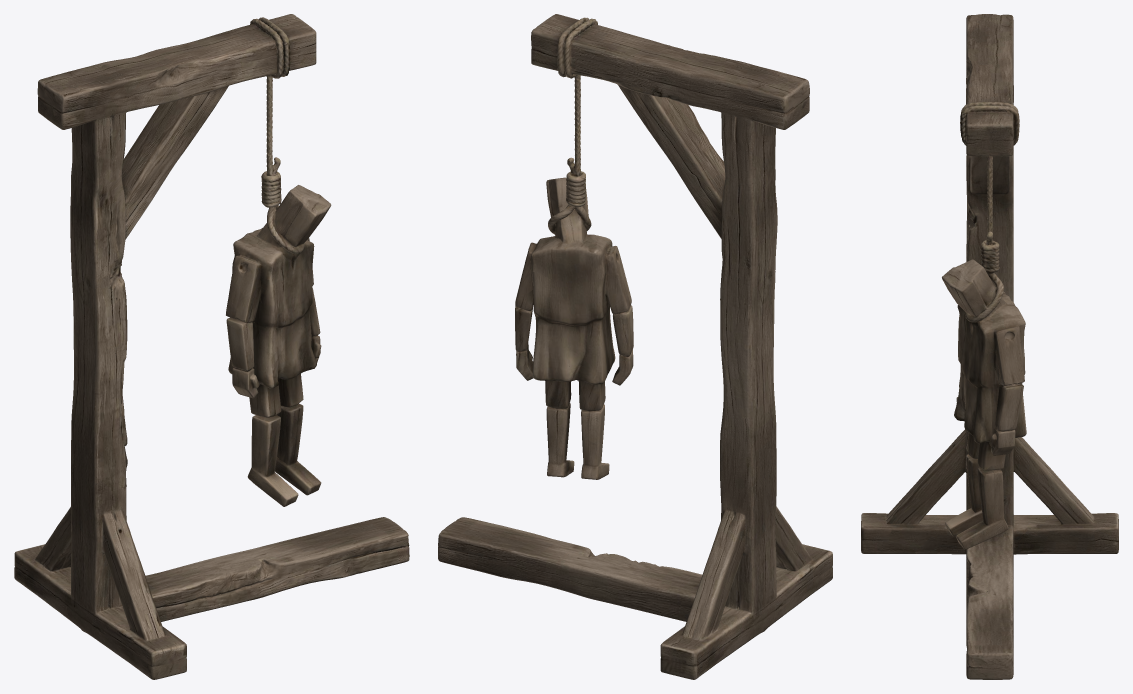
Rendered from hangman.glb.
3 renders of one model, left to right at view 1: azimuth 30°, elevation 25°; view 2: azimuth 150°, elevation 25°; view 3: azimuth 270°, elevation 25°, orthographic. The views are drawn at different scales.
Visible parts, largest first — view 1: gallows, leg_l, body, leg_r, head, arm_r, arm_l; view 2: gallows, body, leg_l, leg_r, head, arm_l, arm_r; view 3: gallows, leg_r, arm_r, head, body, leg_l.
Boxes of the visible parts, x1=… form: gallows: x1=14, y1=14, x2=409, y2=679; leg_l: x1=227, y1=321, x2=298, y2=506; body: x1=231, y1=227, x2=315, y2=328; leg_r: x1=275, y1=280, x2=321, y2=495; head: x1=261, y1=171, x2=331, y2=241; arm_r: x1=281, y1=238, x2=314, y2=321; arm_l: x1=226, y1=278, x2=267, y2=331; gallows: x1=438, y1=14, x2=832, y2=679; body: x1=527, y1=214, x2=625, y2=326; leg_l: x1=568, y1=308, x2=633, y2=479; leg_r: x1=515, y1=306, x2=574, y2=477; head: x1=546, y1=171, x2=591, y2=230; arm_l: x1=603, y1=274, x2=632, y2=319; arm_r: x1=515, y1=236, x2=555, y2=310; gallows: x1=861, y1=14, x2=1118, y2=679; leg_r: x1=956, y1=378, x2=1026, y2=549; arm_r: x1=967, y1=316, x2=1025, y2=393; head: x1=942, y1=240, x2=1003, y2=308; body: x1=954, y1=292, x2=1025, y2=384; leg_l: x1=945, y1=366, x2=983, y2=536.
Size of the model in its own units: 1.24 by 1.9 by 0.8519.
Materials: 1 (1 with a texture image).
